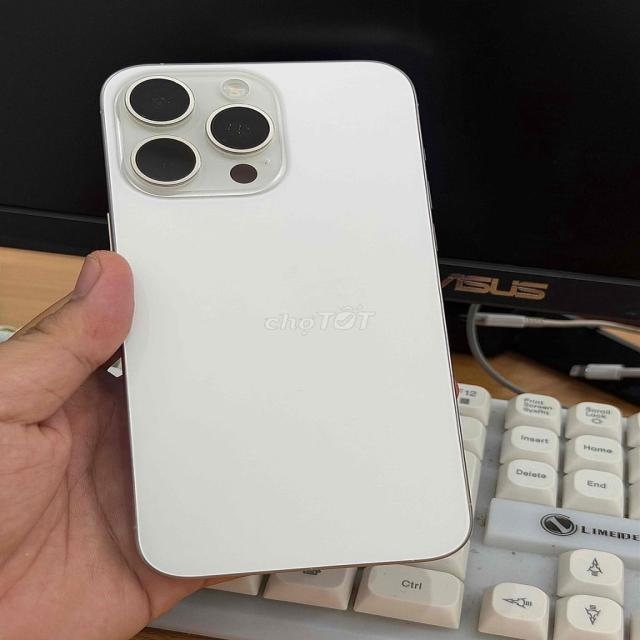gen_15: (87, 61, 490, 577)
